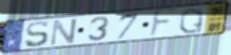3: (86, 15, 111, 42)
7: (116, 13, 142, 40)
F: (148, 7, 178, 40)
N: (49, 17, 80, 48)
Q: (178, 7, 205, 35)
S: (23, 20, 50, 49)
